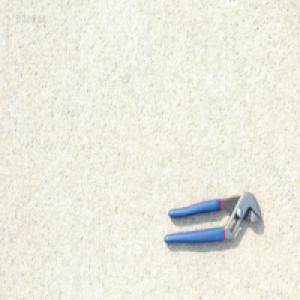Pliers: (162, 189, 262, 246)
